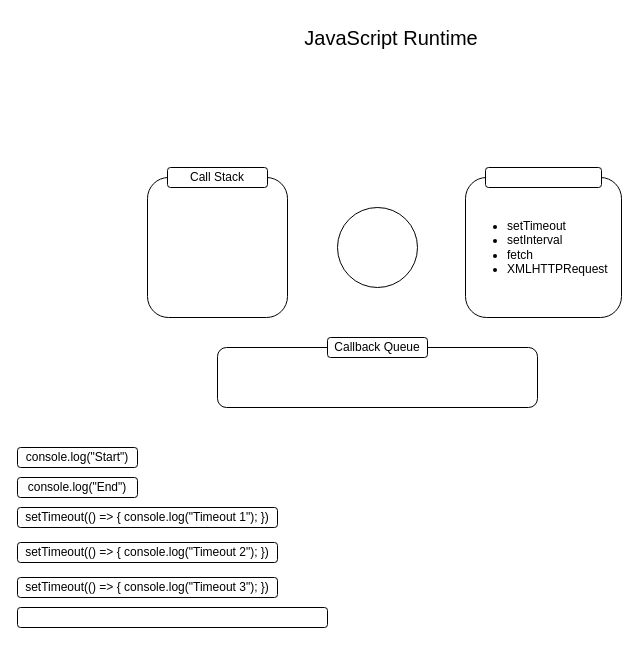
Some shapes in this 639 by 645 pixel diagram are drawn without their labels. Each missing label, with the box of its shape:
Event Loop: (336, 206, 418, 288)
Promise.resolve().then(() => { console.log("Promise"); });: (16, 606, 328, 628)
Web APIs: (484, 166, 602, 188)
